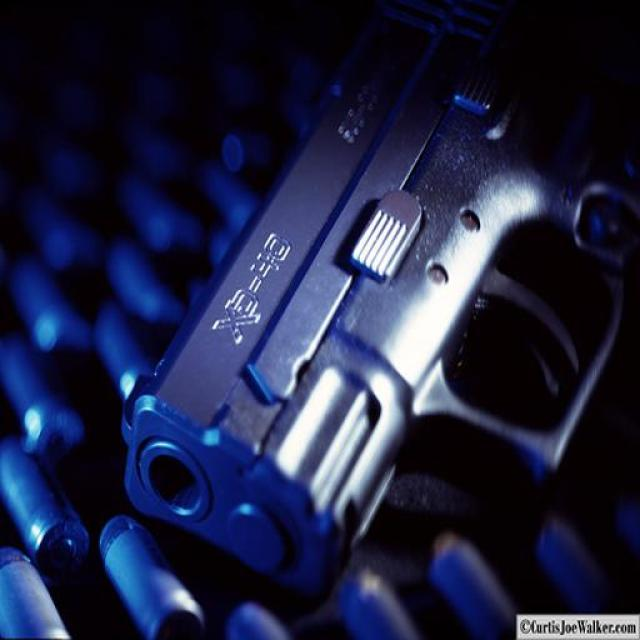pistol: (120, 2, 640, 571)
